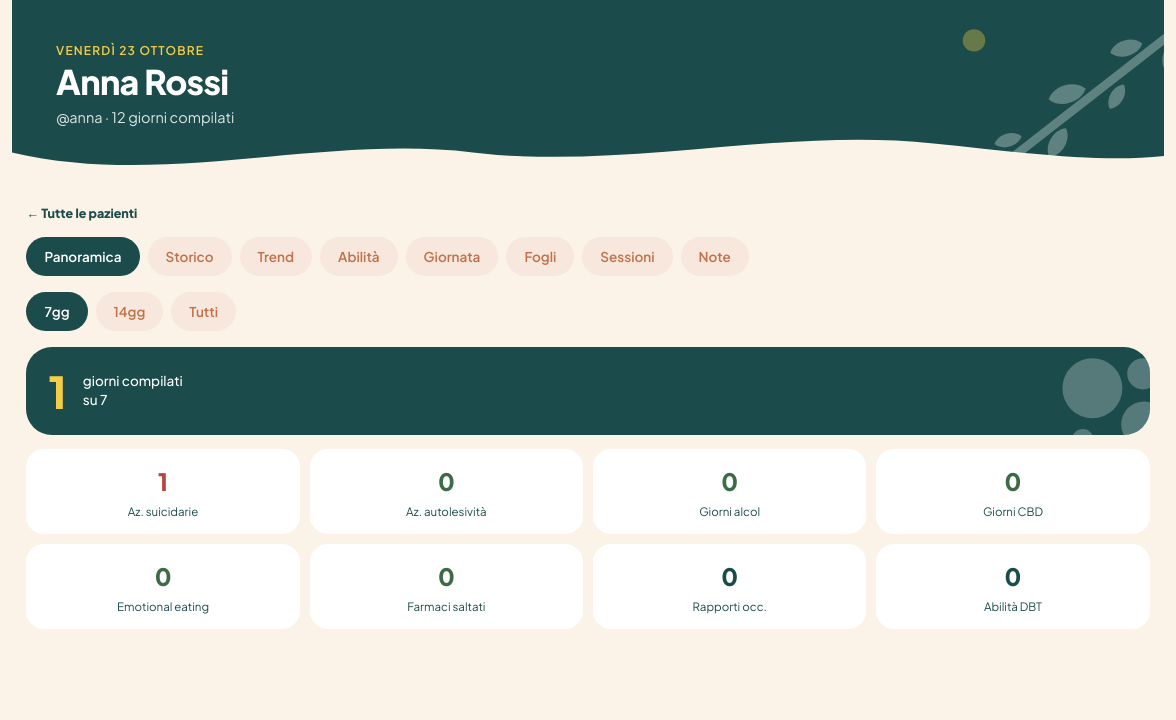
scheda paziente › i dati di Marea (elenchi vecchi e piano di crisi) si leggono come fogli
This screenshot has width=1176, height=720.
Check: the text "Az. suicidarie" is shown, box [128, 505, 198, 520]
What coordinates should you click on to do the following:
click the button "Fogli"
I would click on:
 (540, 256)
Its box is [506, 237, 574, 276].
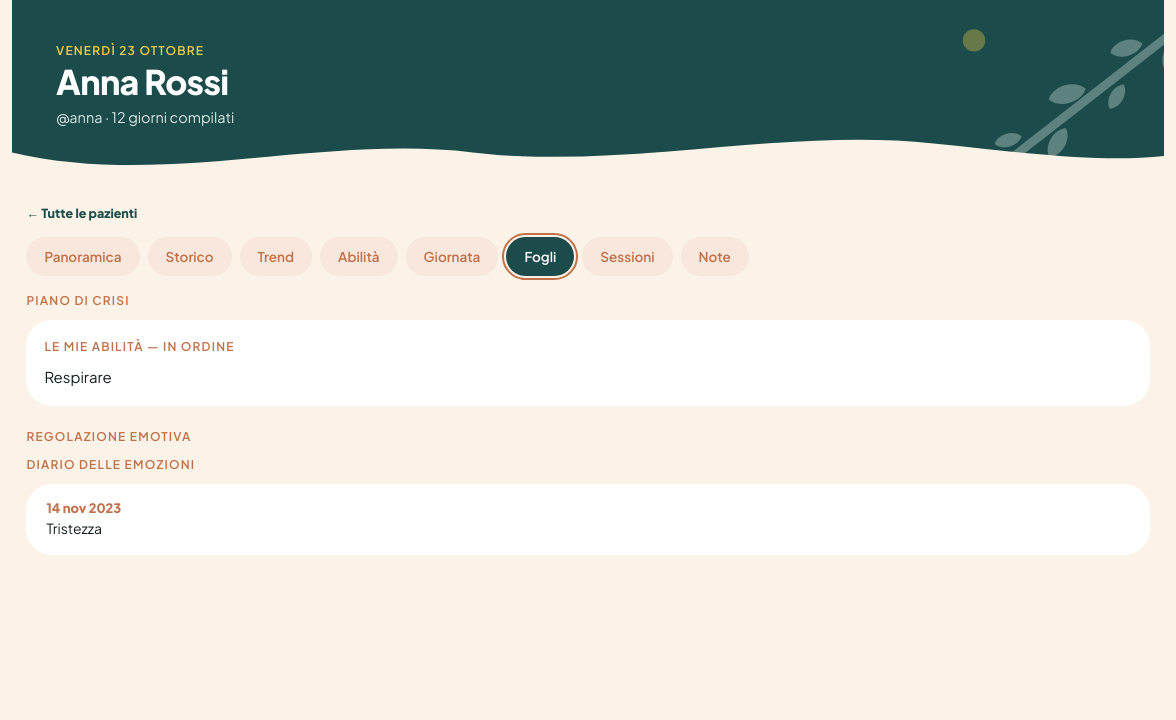
Check: the text "Respirare" is shown, box [44, 367, 112, 386]
Check: the heading "Diario delle emozioni" is shown, box [26, 457, 195, 472]
Check: the text "Tristezza" is shown, box [46, 519, 102, 537]
